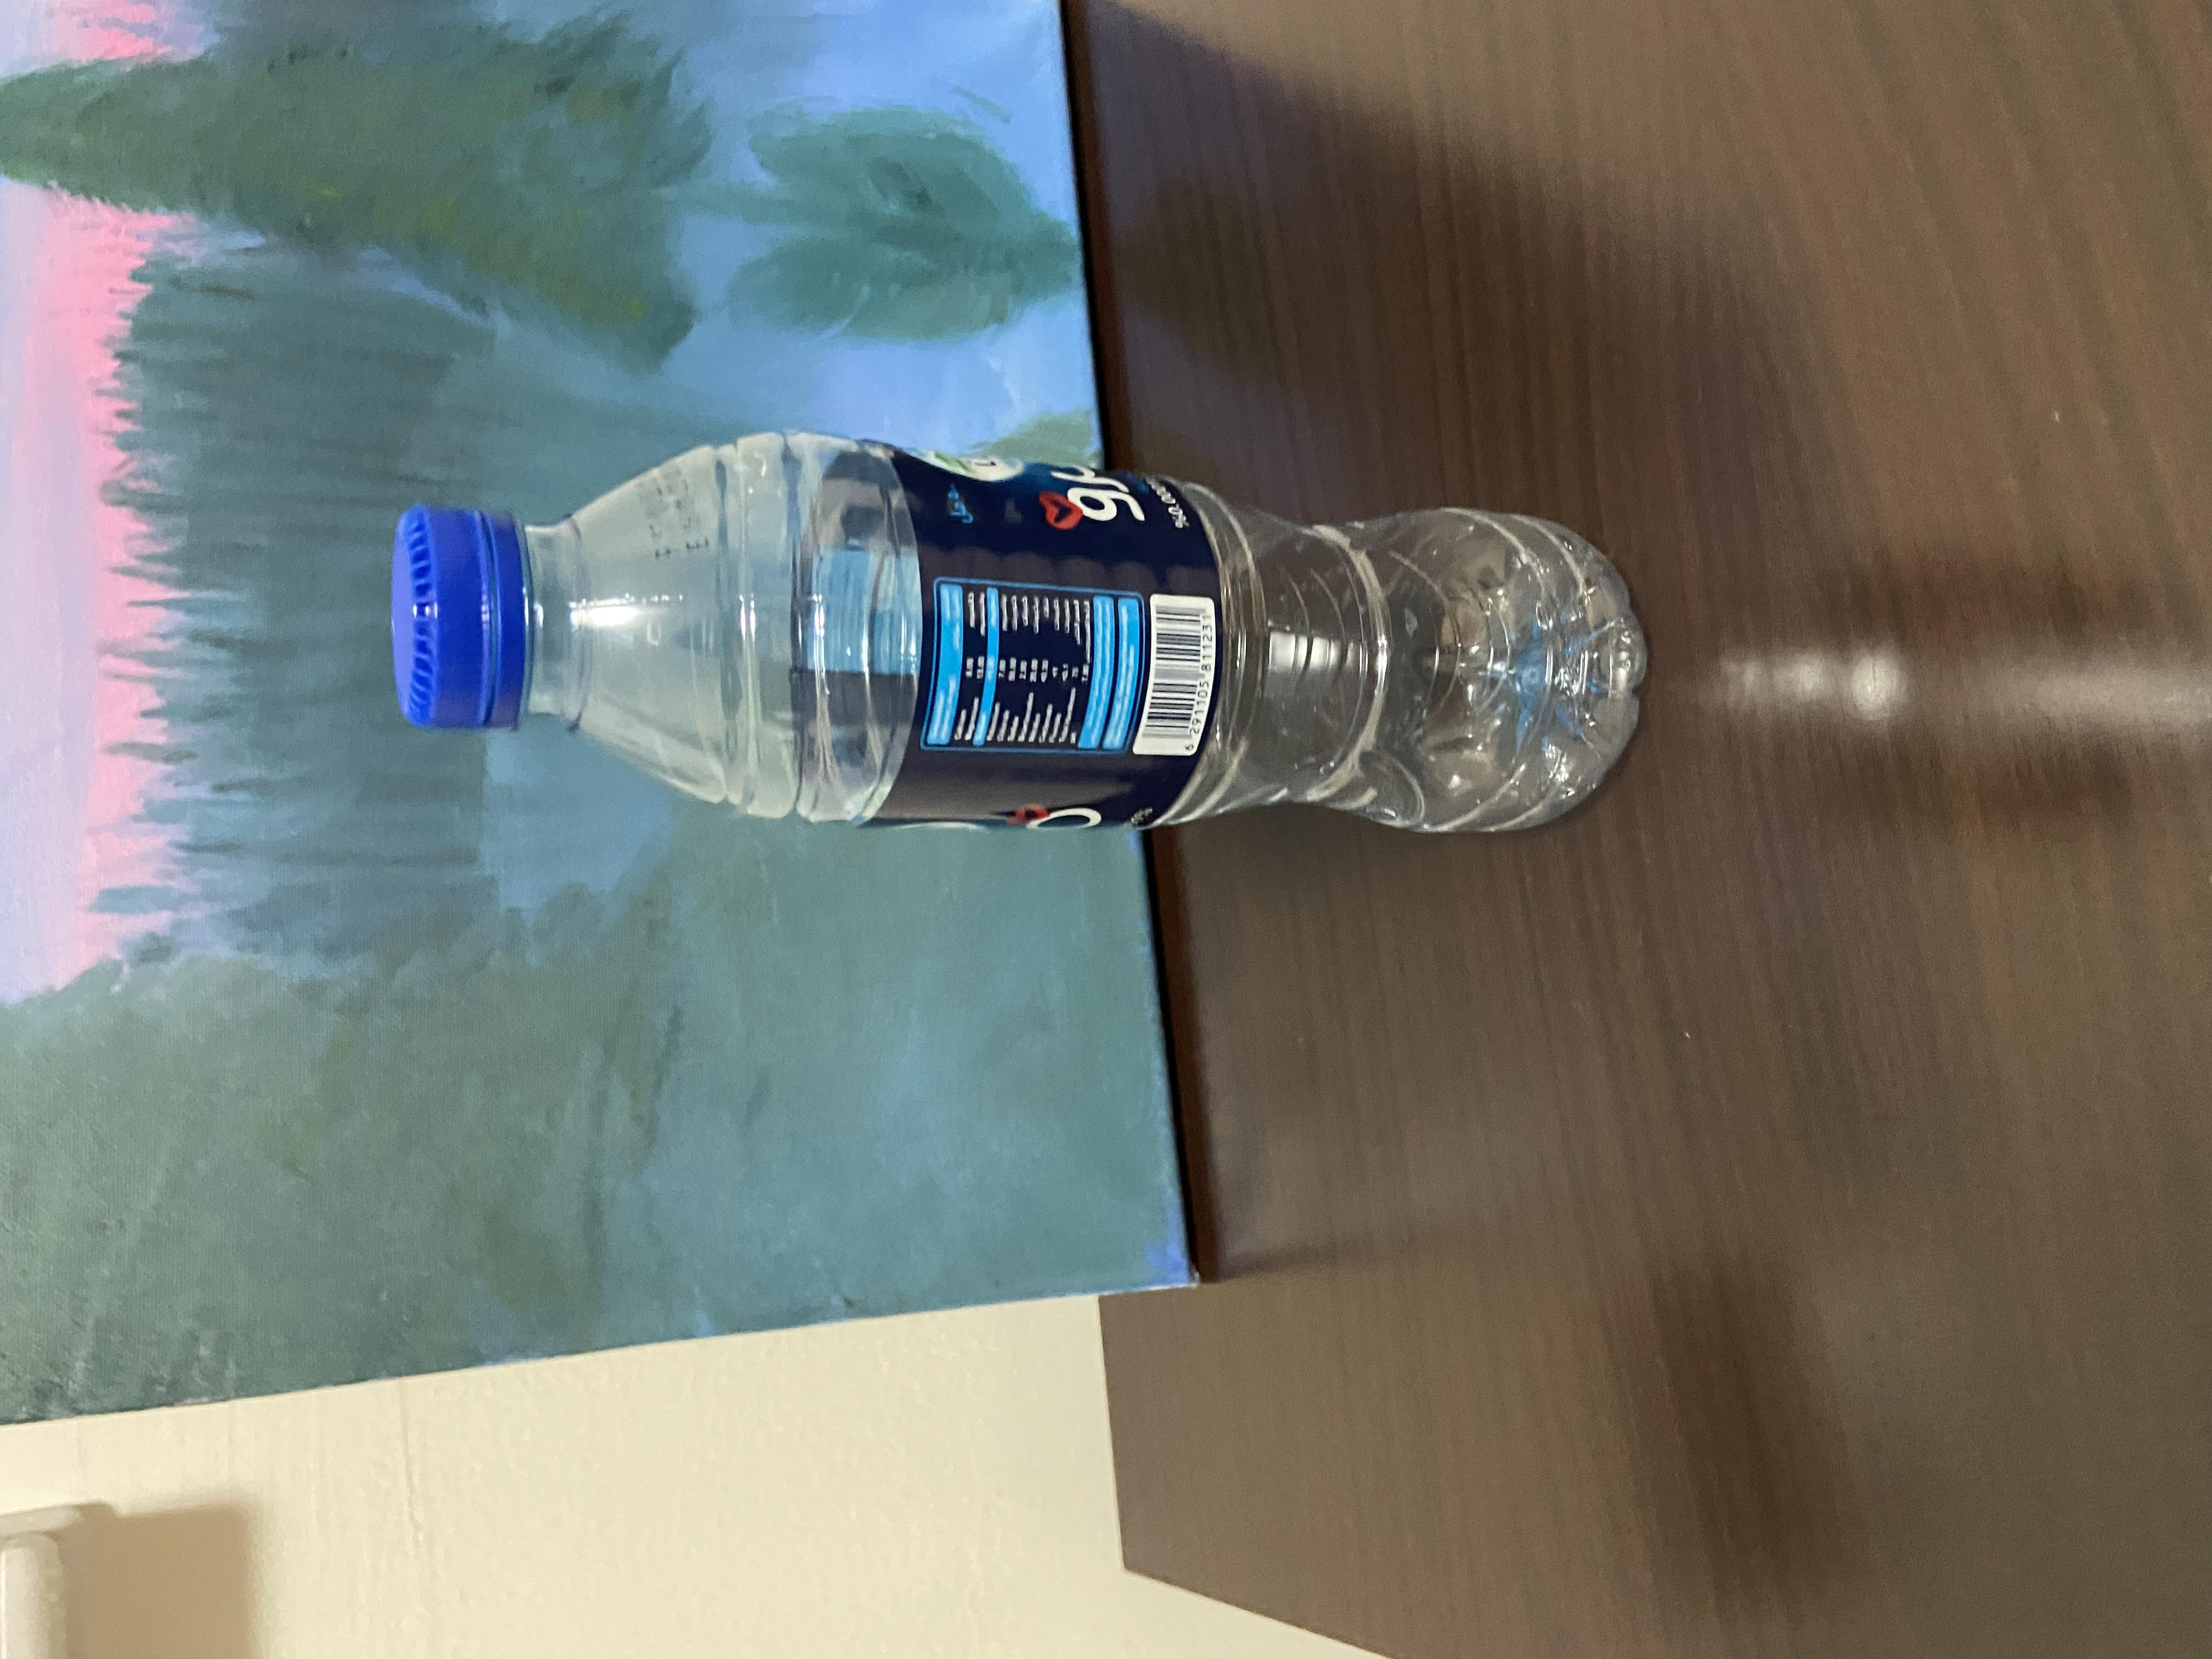bottle: (1045, 253, 1686, 1241)
